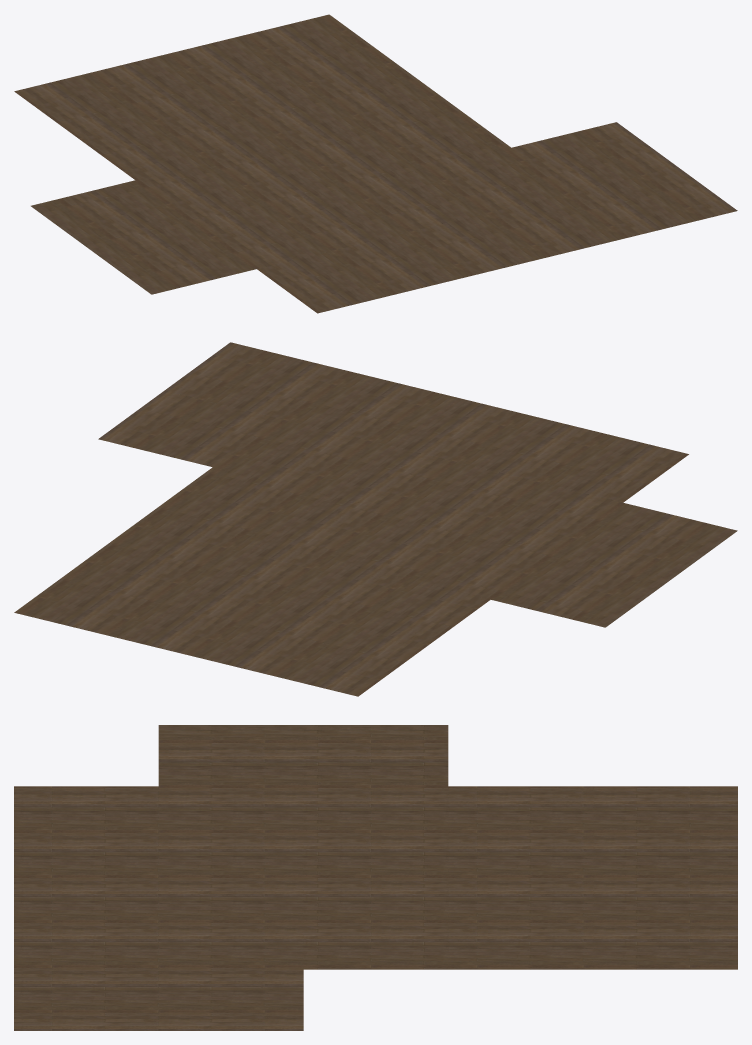
The model's file is Homeworld_Interior_Dq_Room_E_Floor_01_Vo.fbx.
3 renders of one model, top to bottom at view 1: azimuth 30°, elevation 25°; view 2: azimuth 150°, elevation 25°; view 3: azimuth 270°, elevation 25°, orthographic. The views are drawn at different scales.
Parts seen in each view (by area): view 1: Homeworld_Interior_Dq_Room_E_Floor_01_Vo; view 2: Homeworld_Interior_Dq_Room_E_Floor_01_Vo; view 3: Homeworld_Interior_Dq_Room_E_Floor_01_Vo.
Part boxes in pixels (<box>): Homeworld_Interior_Dq_Room_E_Floor_01_Vo: <box>14,14,737,313</box>; Homeworld_Interior_Dq_Room_E_Floor_01_Vo: <box>14,342,737,696</box>; Homeworld_Interior_Dq_Room_E_Floor_01_Vo: <box>14,725,737,1030</box>.
Bounding box in the file's own units: 25 × 1.09e-06 × 25.
